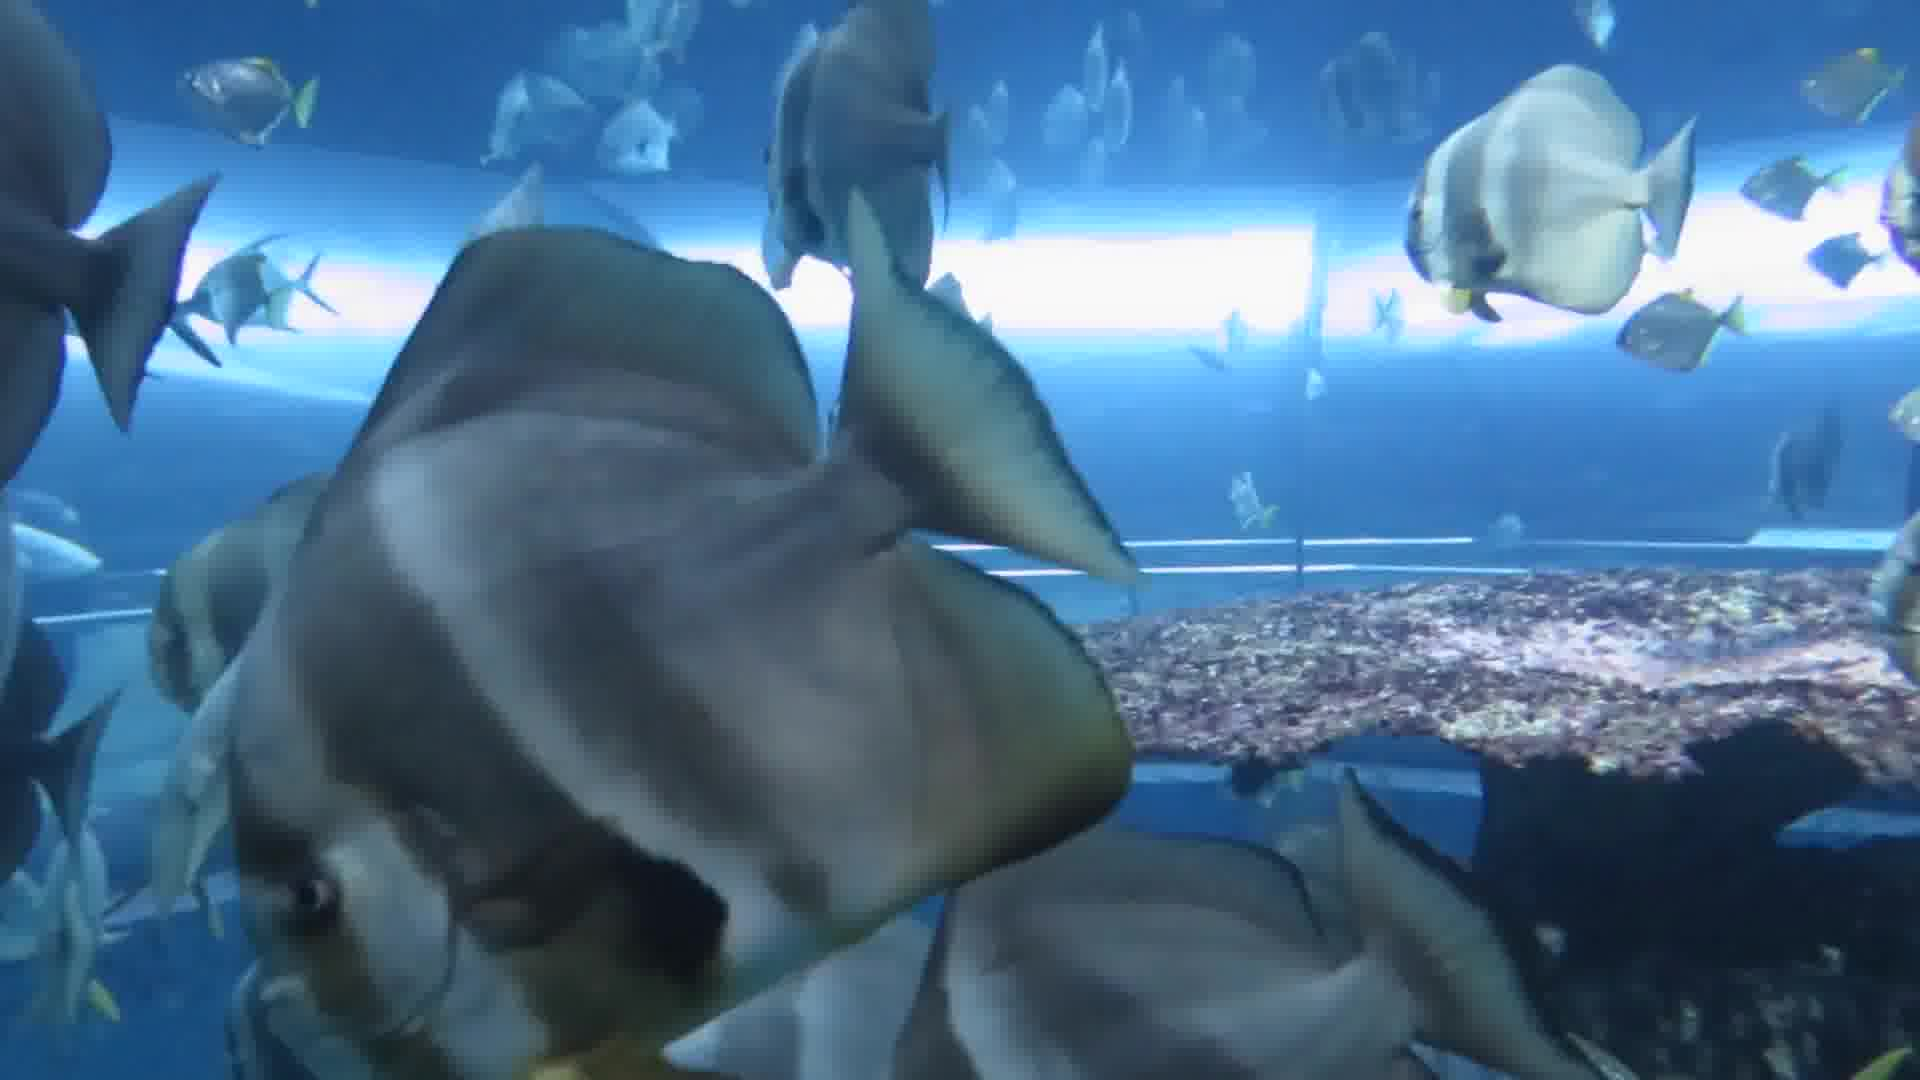Platax teira: (157, 225, 1129, 1080), (1378, 22, 1729, 344)
